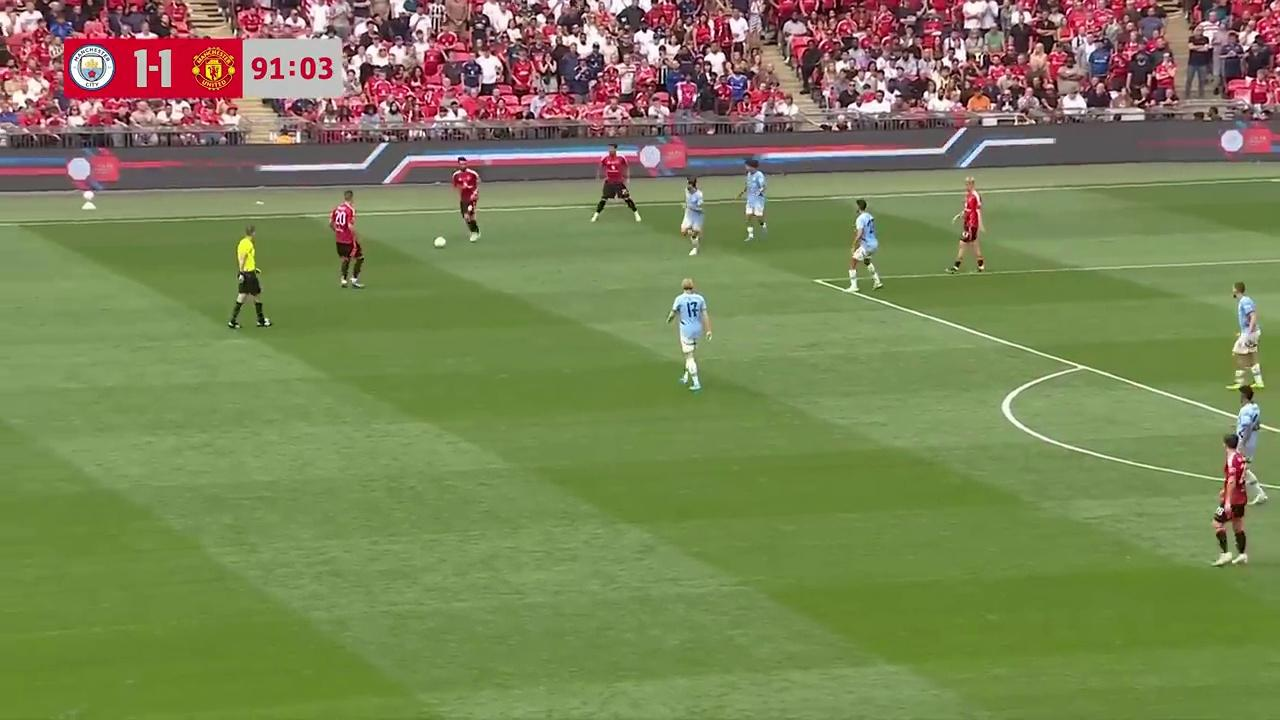ball: (432, 233, 448, 248)
player: (1211, 441, 1253, 567), (665, 278, 711, 391), (597, 139, 641, 222), (329, 184, 363, 290), (1230, 284, 1264, 386), (949, 180, 986, 273), (847, 200, 881, 289), (453, 152, 481, 241), (1234, 387, 1265, 465), (740, 167, 768, 241), (681, 178, 704, 255)
referee: (228, 227, 271, 330)
